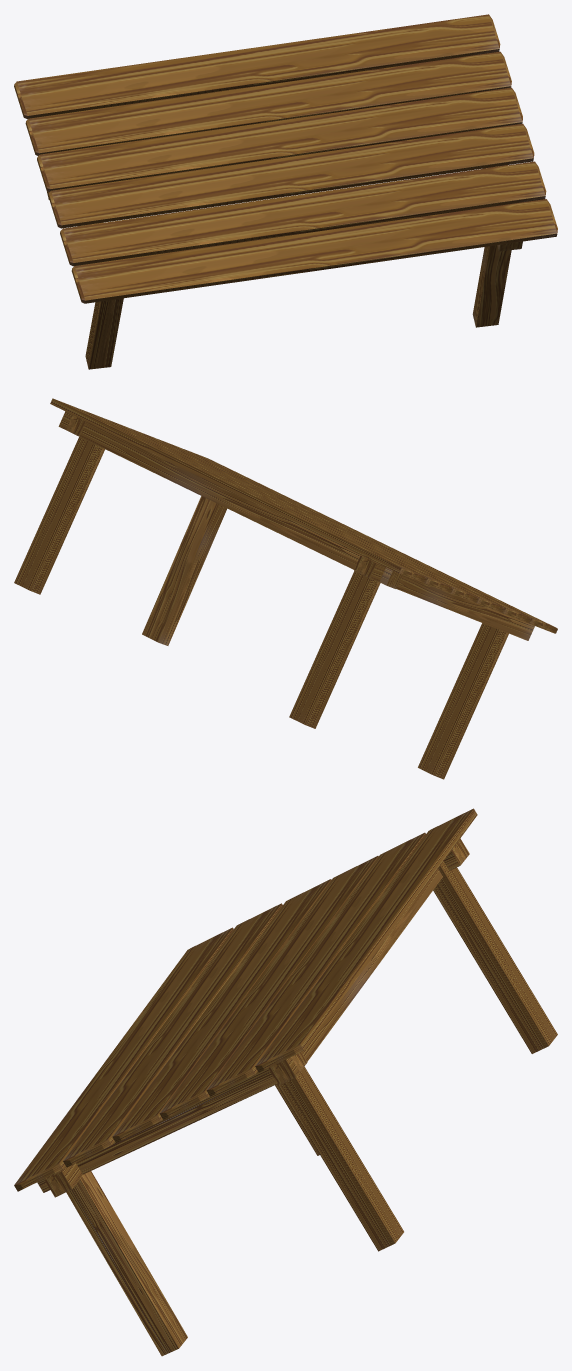
Rendered from tableFIN.fbx.
3 views of the same model, one above another, from view 1: azimuth 30°, elevation 25°; view 2: azimuth 150°, elevation 25°; view 3: azimuth 270°, elevation 25° (orthographic). The views are drawn at different scales.
Visible parts, largest first — view 1: polySurface82; view 2: polySurface82; view 3: polySurface82.
Boxes of the visible parts, x1,y1,x2,y2 form: polySurface82: (14, 14, 557, 369); polySurface82: (14, 398, 557, 779); polySurface82: (14, 808, 557, 1356).
Bounding box in the file's own units: 38.84 × 22.03 × 31.17.
1 material, 1 textured.
